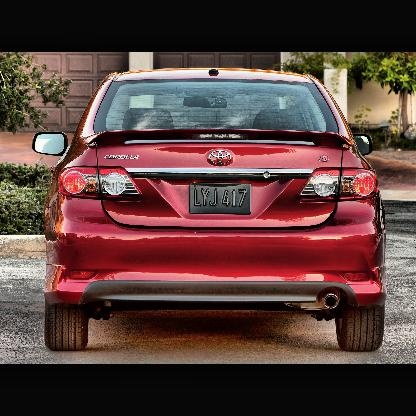Toyota Corolla Sedan 2012: (24, 66, 402, 357)
